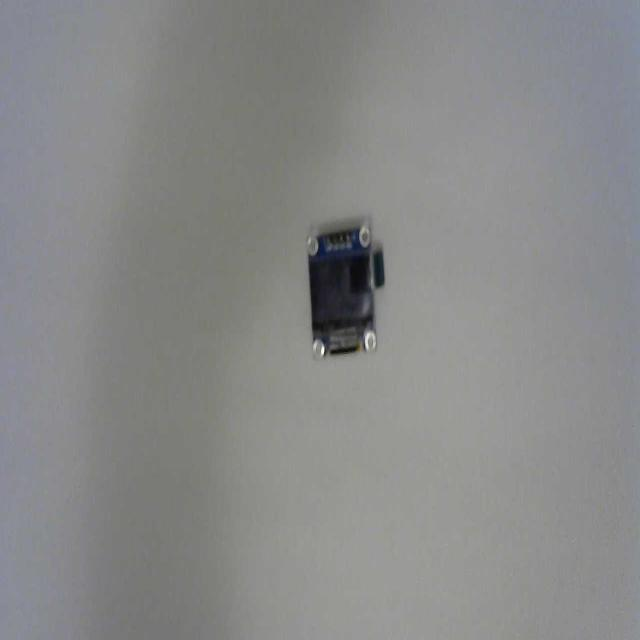oled: (301, 218, 390, 364)
